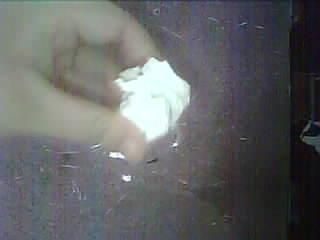paper: (115, 58, 190, 142)
